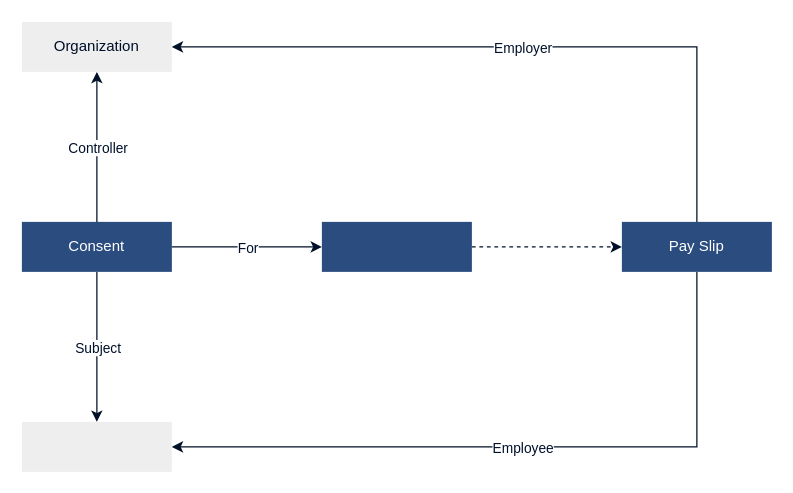
This 793x493 diagram has some shape labels left out. Here are the shapes that lost their labels. From the top down, the centre of each, then its label:
point (396, 246): Purpose
point (96, 446): Person
